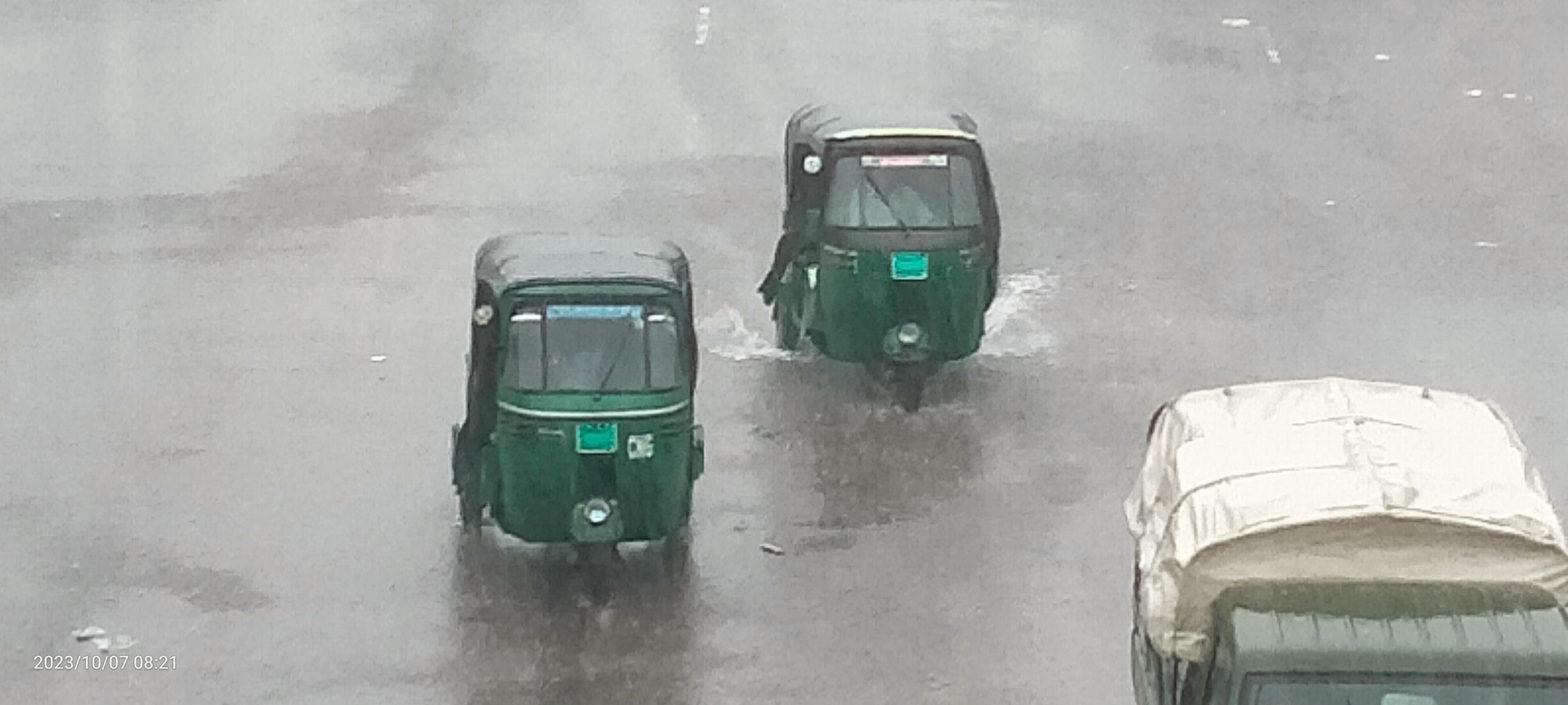Truck: (1071, 343, 1568, 705)
